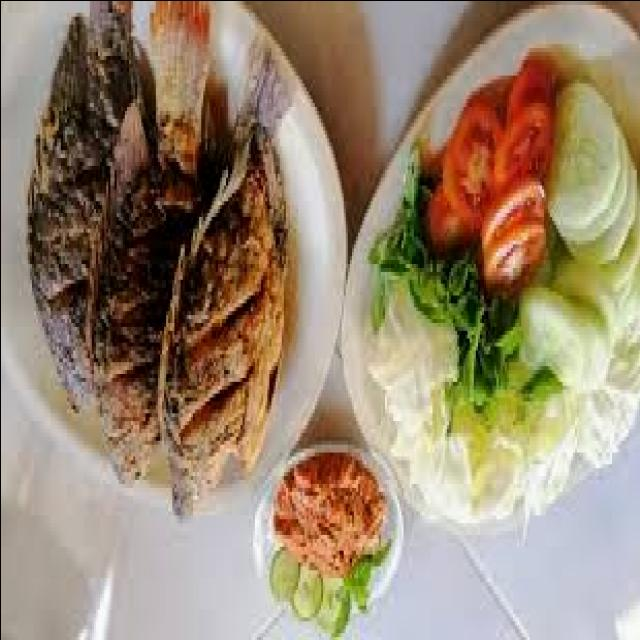ikan goreng: (159, 47, 287, 518)
